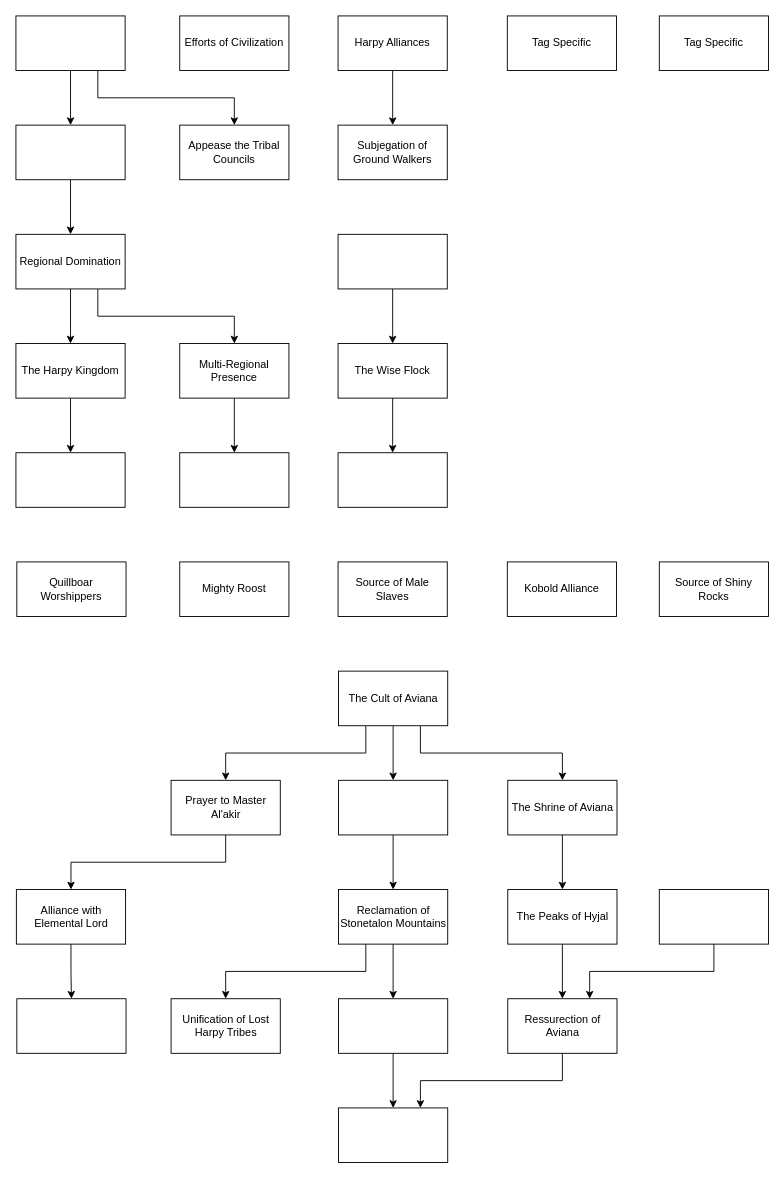
The diagram is 784 pixels wide and 1178 high, and some of its shapes have lost their labels. Each missing label, with the centre of its shape:
Aquire New Roosts: the point at 70,152
Chosen of the Wind: the point at 71,1025
Fate of the Children of Aviana: the point at 393,1135
G'hanir Recovery: the point at 713,916
Projection of Our Might: the point at 234,479
Return to Stonetalon: the point at 393,807
Rise of the Harpy Queen: the point at 392,479
Strenghten the Flock: the point at 70,43
The Flock Among Strong: the point at 70,479
The Magnificent Lady: the point at 392,261
The New Stonetalon Roosts: the point at 393,1025
